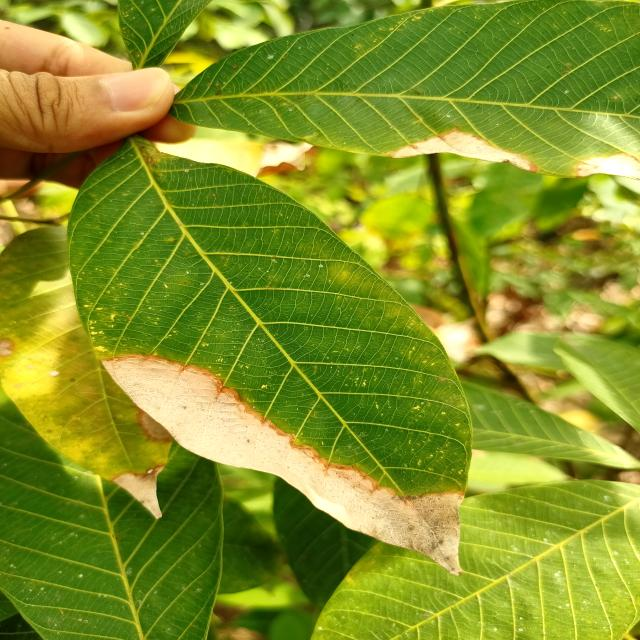Colletotrichum: (146, 468, 154, 474), (71, 378, 75, 382)
Leaf-Blight: (100, 354, 465, 576), (387, 129, 536, 176), (112, 463, 165, 518), (574, 154, 640, 181), (138, 409, 172, 442), (0, 337, 14, 356)
